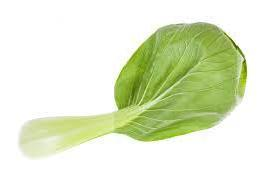Healthy-Pechay: (13, 20, 260, 161)
